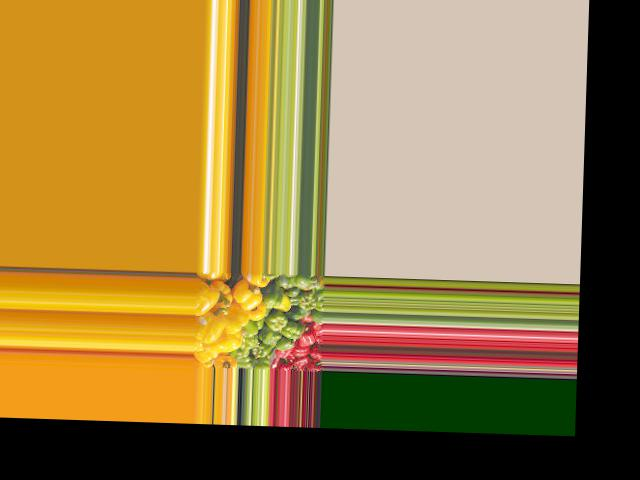bell_pepper: (301, 273, 324, 291)
